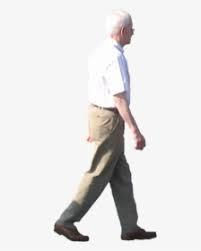Human: (57, 12, 165, 239)
